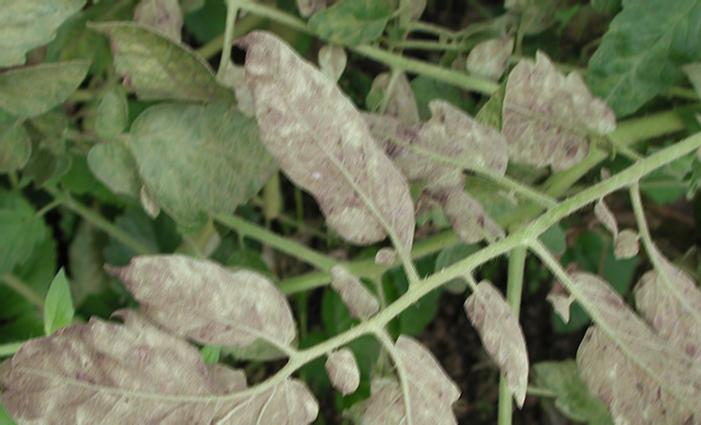Tomato mold leaf: (101, 109, 275, 228), (588, 0, 701, 108), (0, 55, 92, 143), (0, 0, 96, 71)
